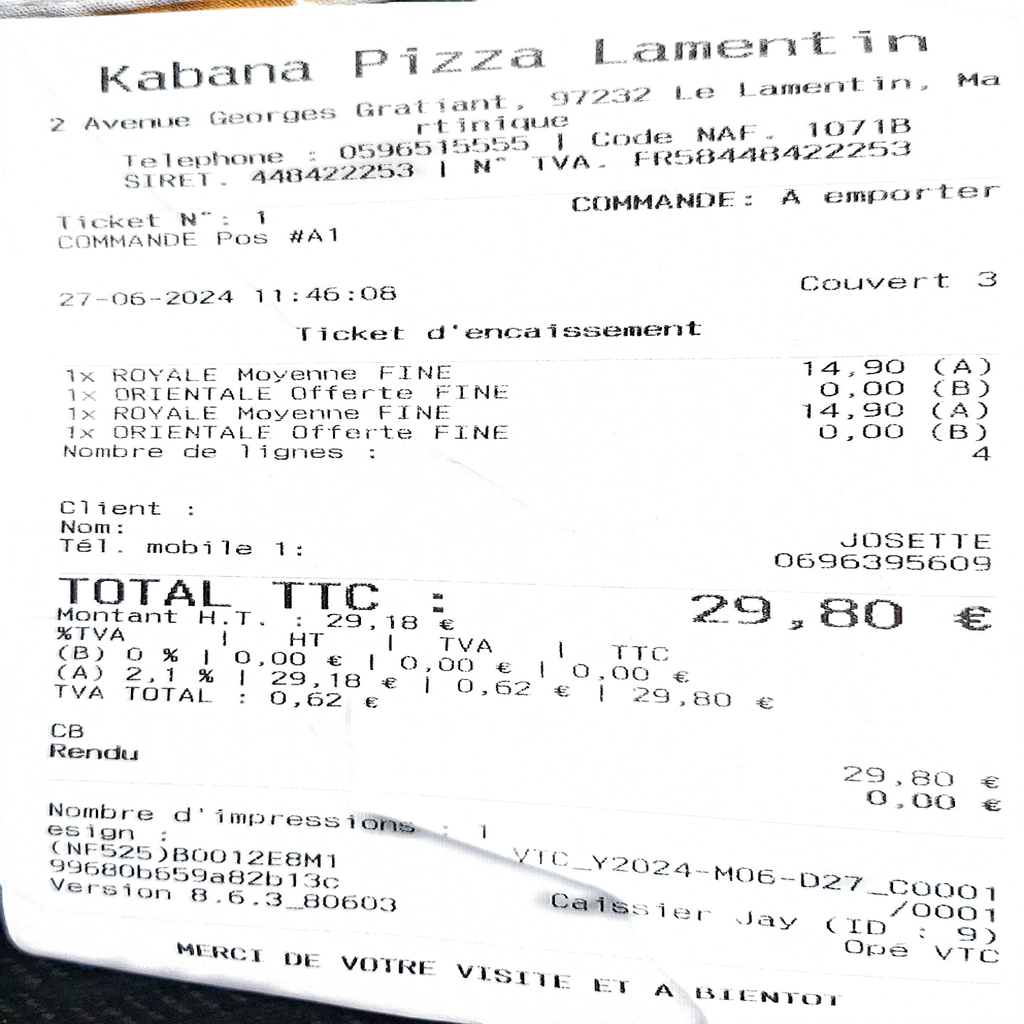recipt: (11, 15, 1016, 1009)
